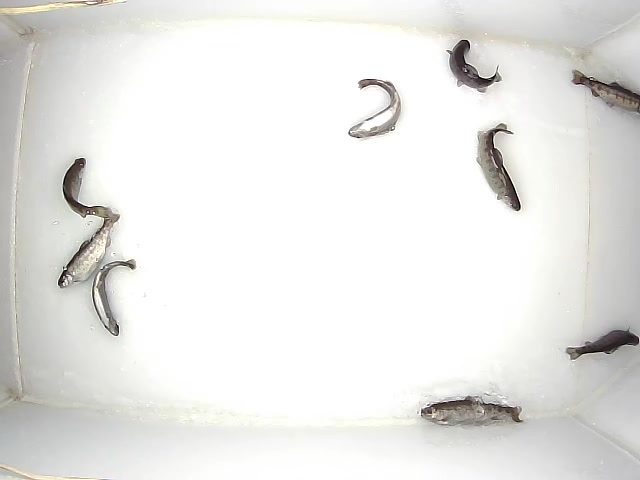fish: (58, 208, 120, 289), (476, 123, 521, 211), (92, 259, 136, 336), (417, 396, 523, 427), (348, 78, 401, 139), (446, 39, 503, 93), (571, 69, 640, 113), (63, 158, 110, 218), (566, 326, 639, 360)
